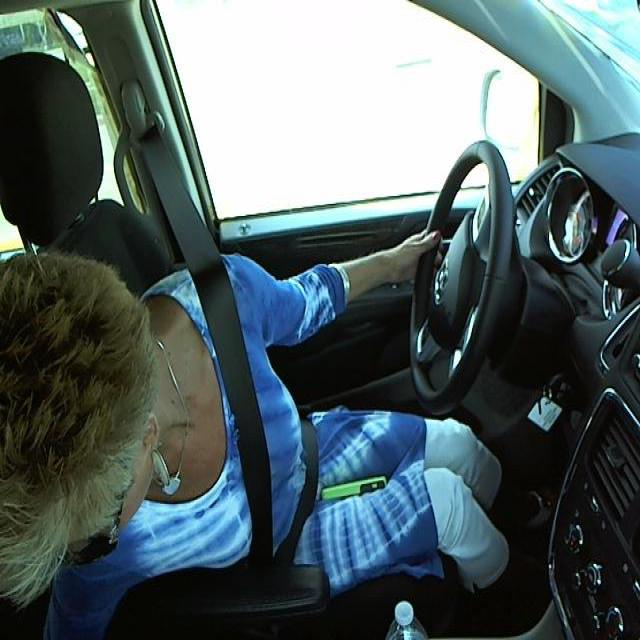seatbelt: (152, 193, 331, 558)
